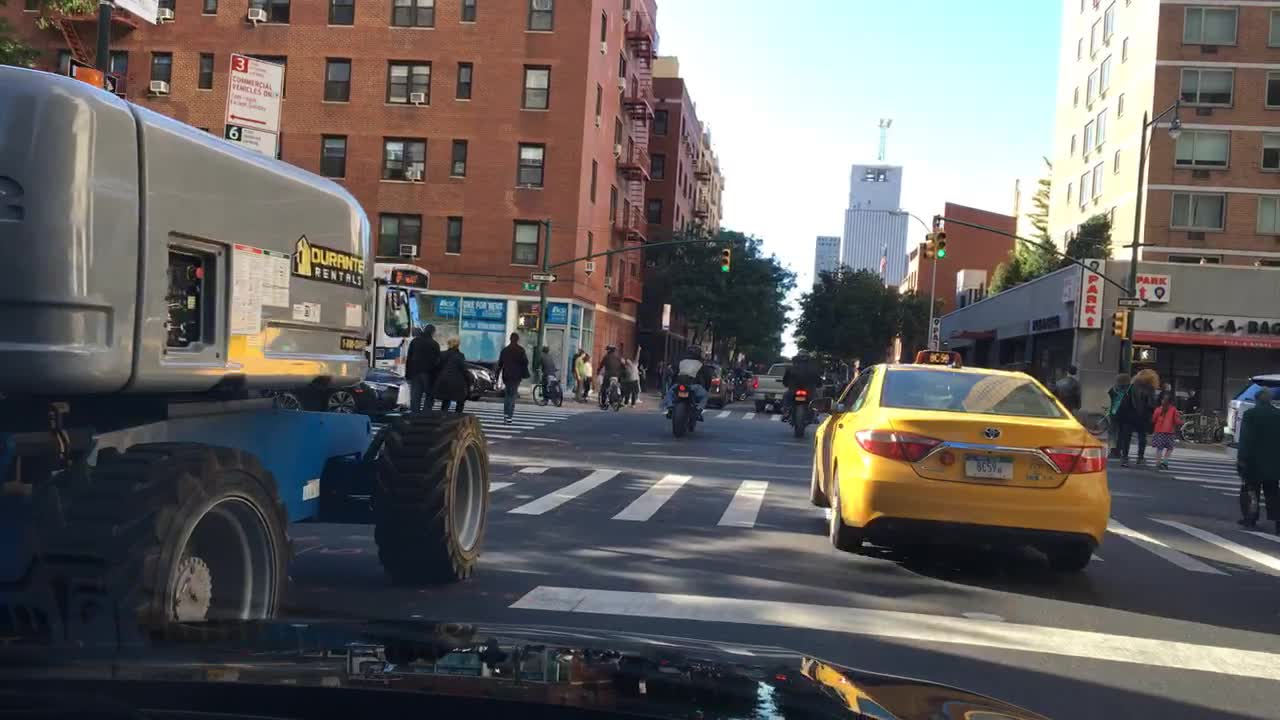bike: (774, 373, 831, 443), (657, 384, 710, 435), (527, 368, 564, 412)
car: (806, 350, 1119, 579), (1215, 370, 1279, 447), (747, 357, 822, 412), (415, 359, 499, 403), (692, 357, 725, 408), (714, 361, 736, 408), (732, 361, 752, 403)
person: (1235, 383, 1277, 535), (1117, 368, 1160, 469), (396, 324, 440, 416), (490, 331, 531, 423), (431, 333, 477, 414), (1095, 366, 1130, 461), (591, 342, 630, 412), (1150, 388, 1183, 469), (523, 340, 564, 397), (1048, 361, 1083, 416), (657, 344, 678, 421), (622, 342, 644, 403), (576, 348, 600, 403), (829, 355, 849, 411), (569, 352, 583, 403), (659, 363, 677, 397), (850, 355, 864, 390), (651, 357, 664, 394)
rider: (769, 344, 828, 430)
traffic light: (1126, 342, 1157, 363), (1110, 309, 1130, 341), (718, 242, 734, 275), (511, 314, 542, 329), (921, 233, 934, 260), (934, 233, 946, 259)
traffic sign: (223, 53, 284, 133), (222, 123, 283, 169), (65, 59, 123, 92), (1112, 292, 1149, 308), (527, 267, 558, 284), (516, 281, 542, 294)
truck: (1, 51, 494, 680)
